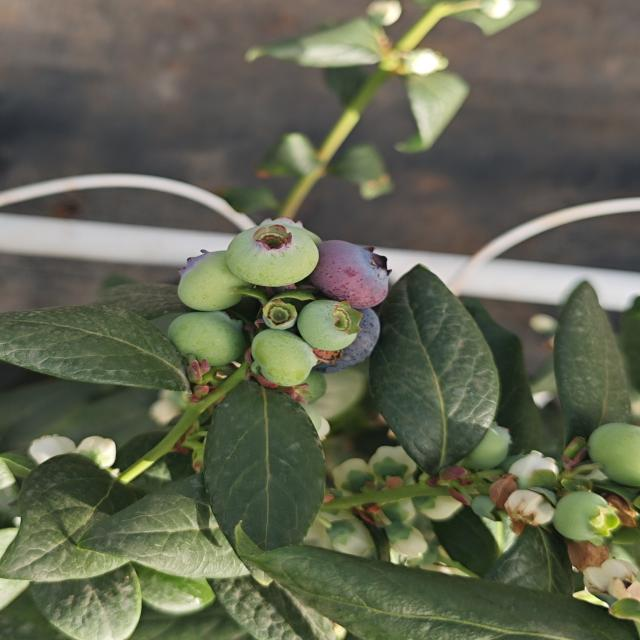ripe: (303, 291, 383, 375)
